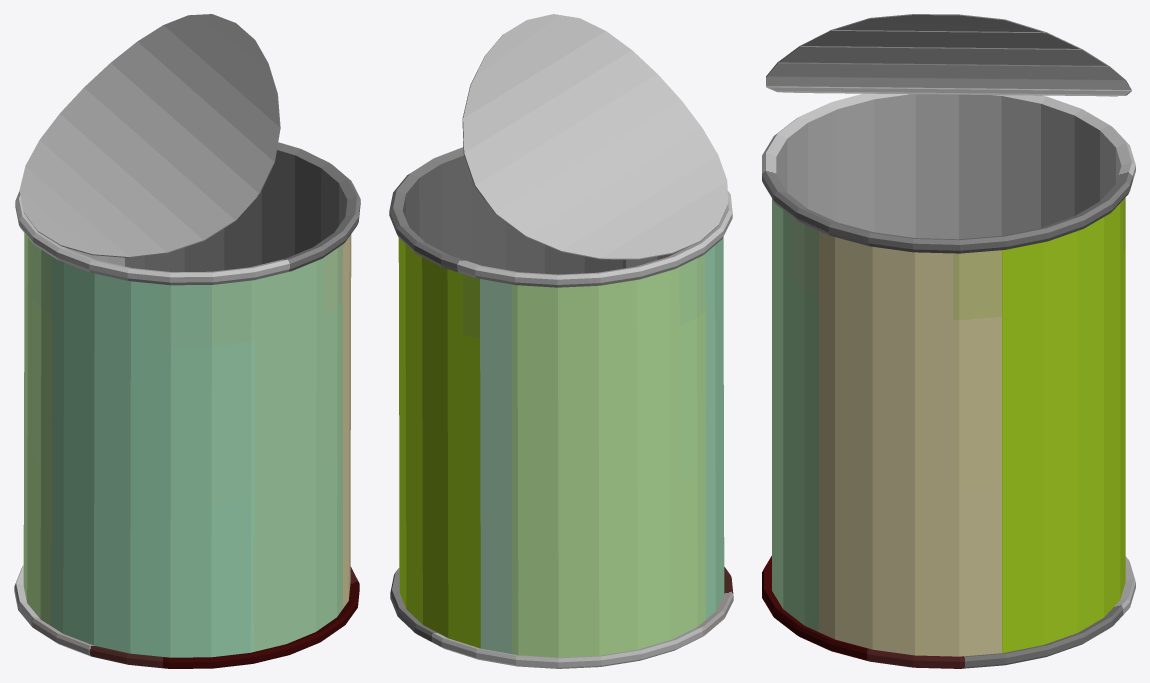
The model's file is jamipurkki1.fbx.
3 renders of one model, left to right at view 1: azimuth 30°, elevation 25°; view 2: azimuth 150°, elevation 25°; view 3: azimuth 270°, elevation 25°, orthographic. The views are drawn at different scales.
Visible parts, largest first — view 1: Cylinder; view 2: Cylinder; view 3: Cylinder.
Boxes of the visible parts, x1,y1,x2,y2 form: Cylinder: (14, 14, 360, 668); Cylinder: (389, 14, 733, 668); Cylinder: (762, 14, 1135, 668).
Size of the model in its own units: 2.12 by 2.11 by 3.76.
